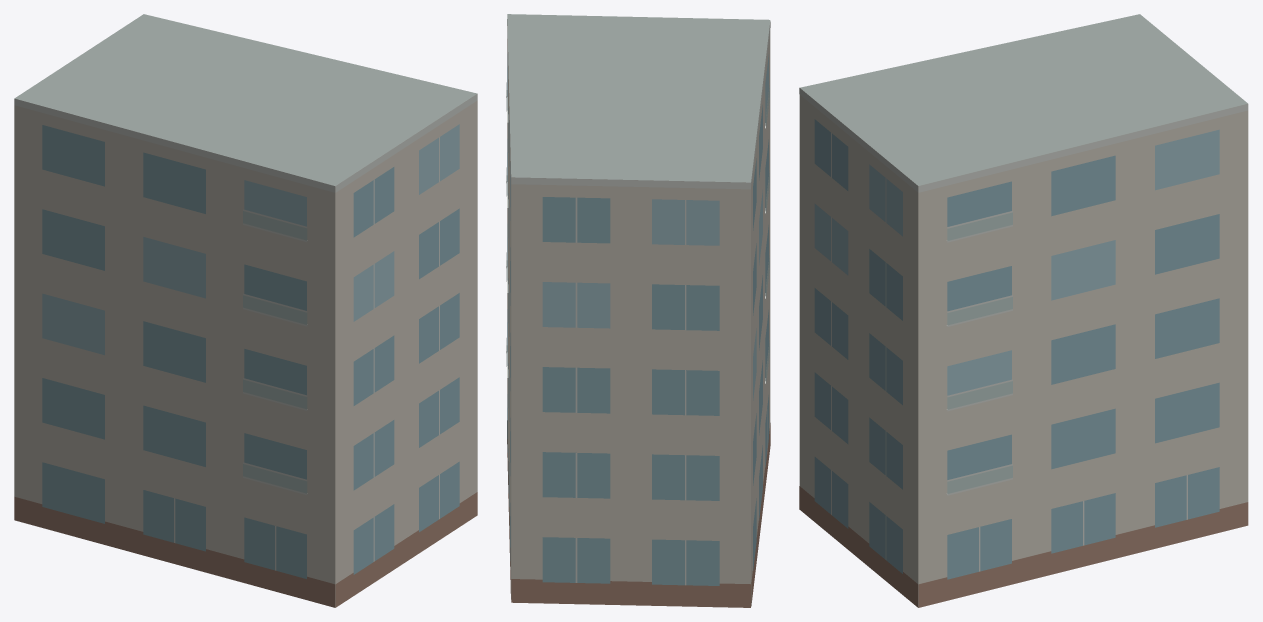
File: survey-upis-32538093.glb
The picture shows the model from 3 angles, left to right: view 1: azimuth 30°, elevation 25°; view 2: azimuth 150°, elevation 25°; view 3: azimuth 270°, elevation 25°; orthographic projection.
Parts seen in each view (by area): view 1: survey-upis-32538093.tmp; view 2: survey-upis-32538093.tmp; view 3: survey-upis-32538093.tmp.
Boxes of the visible parts, bbox=[...] form: survey-upis-32538093.tmp: bbox=[14, 14, 477, 607]; survey-upis-32538093.tmp: bbox=[506, 14, 770, 607]; survey-upis-32538093.tmp: bbox=[799, 14, 1248, 607].
Size of the model in its own units: 13.35 by 15.25 by 14.71.
